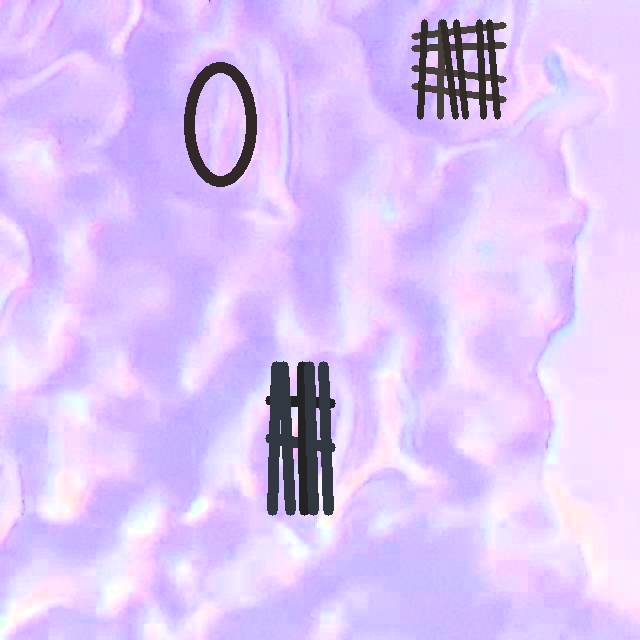open: (266, 362, 335, 514), (411, 19, 506, 119), (184, 61, 256, 187)
